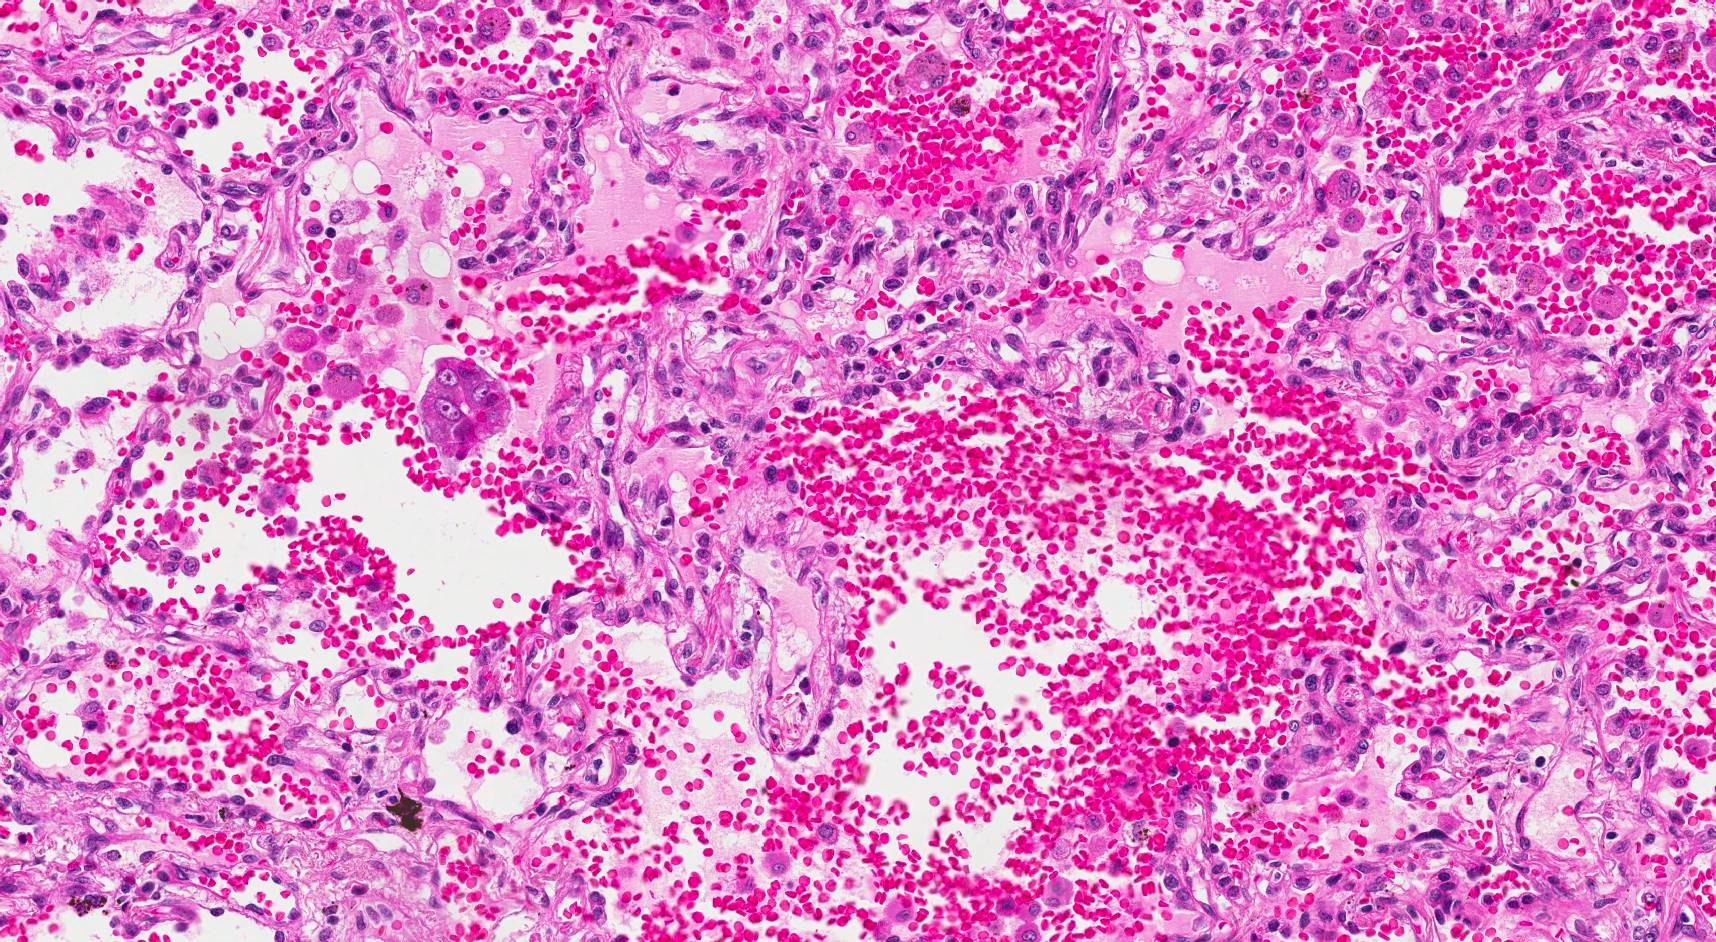stas: (418, 358, 511, 459)
